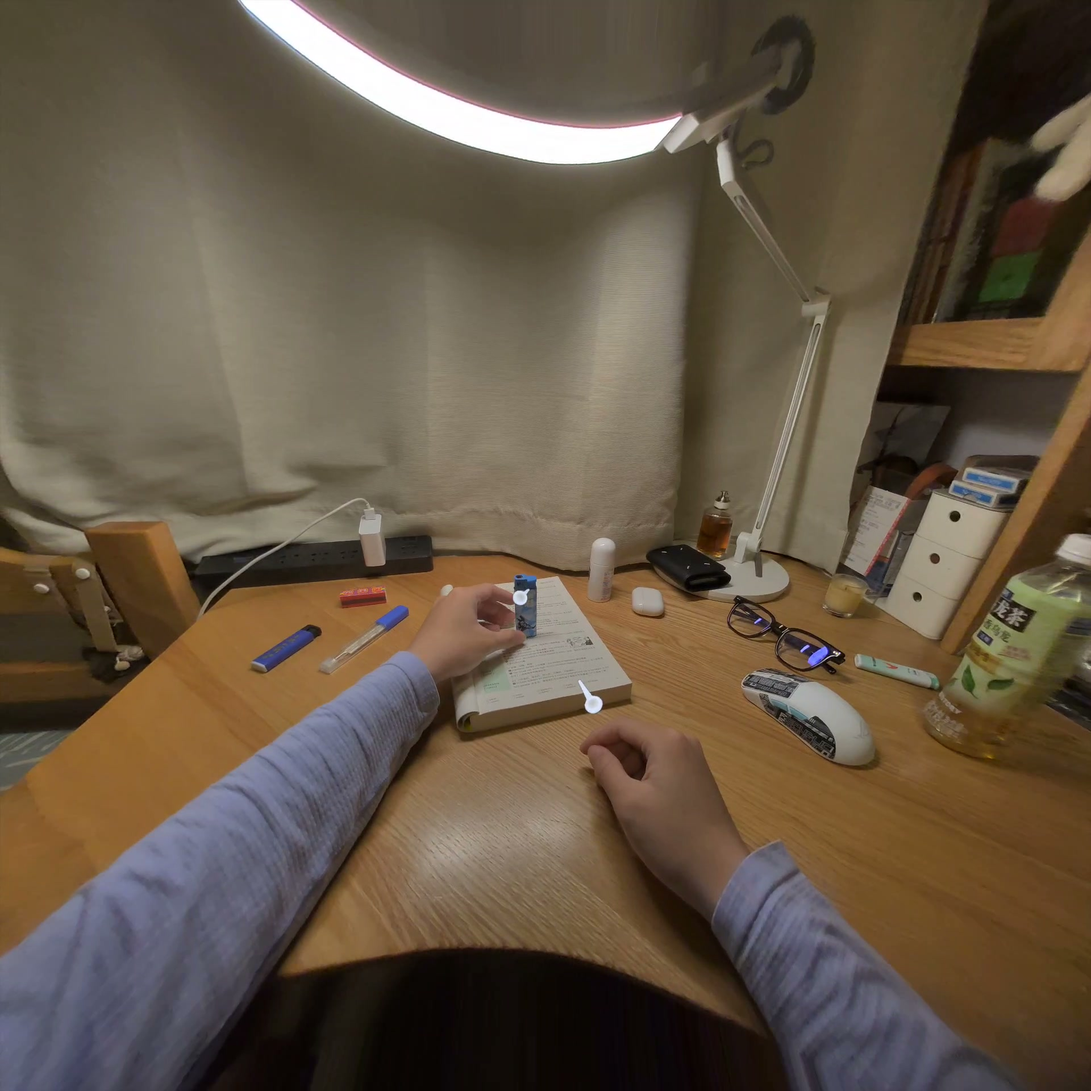lighter: (513, 574, 536, 639)
